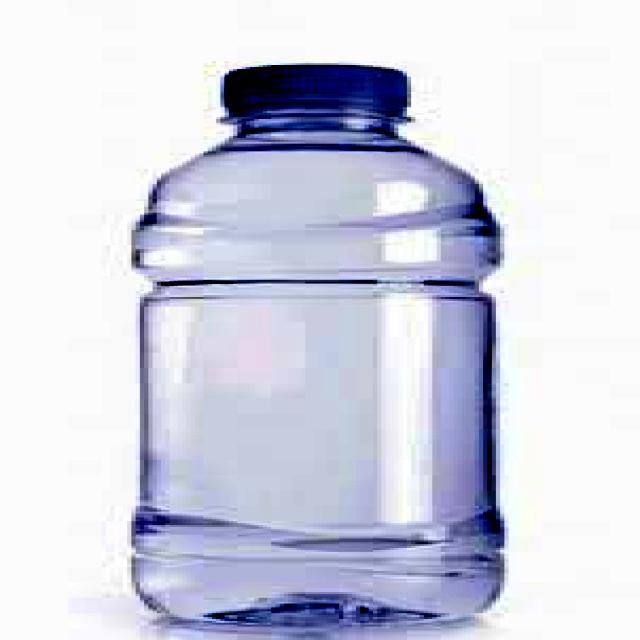Plastic: (130, 62, 516, 633)
